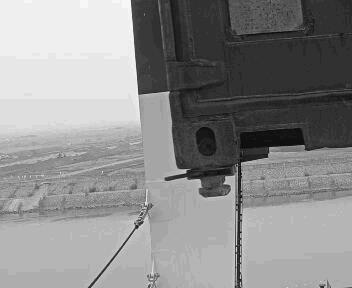twist_lock_1: (143, 164, 210, 203)
